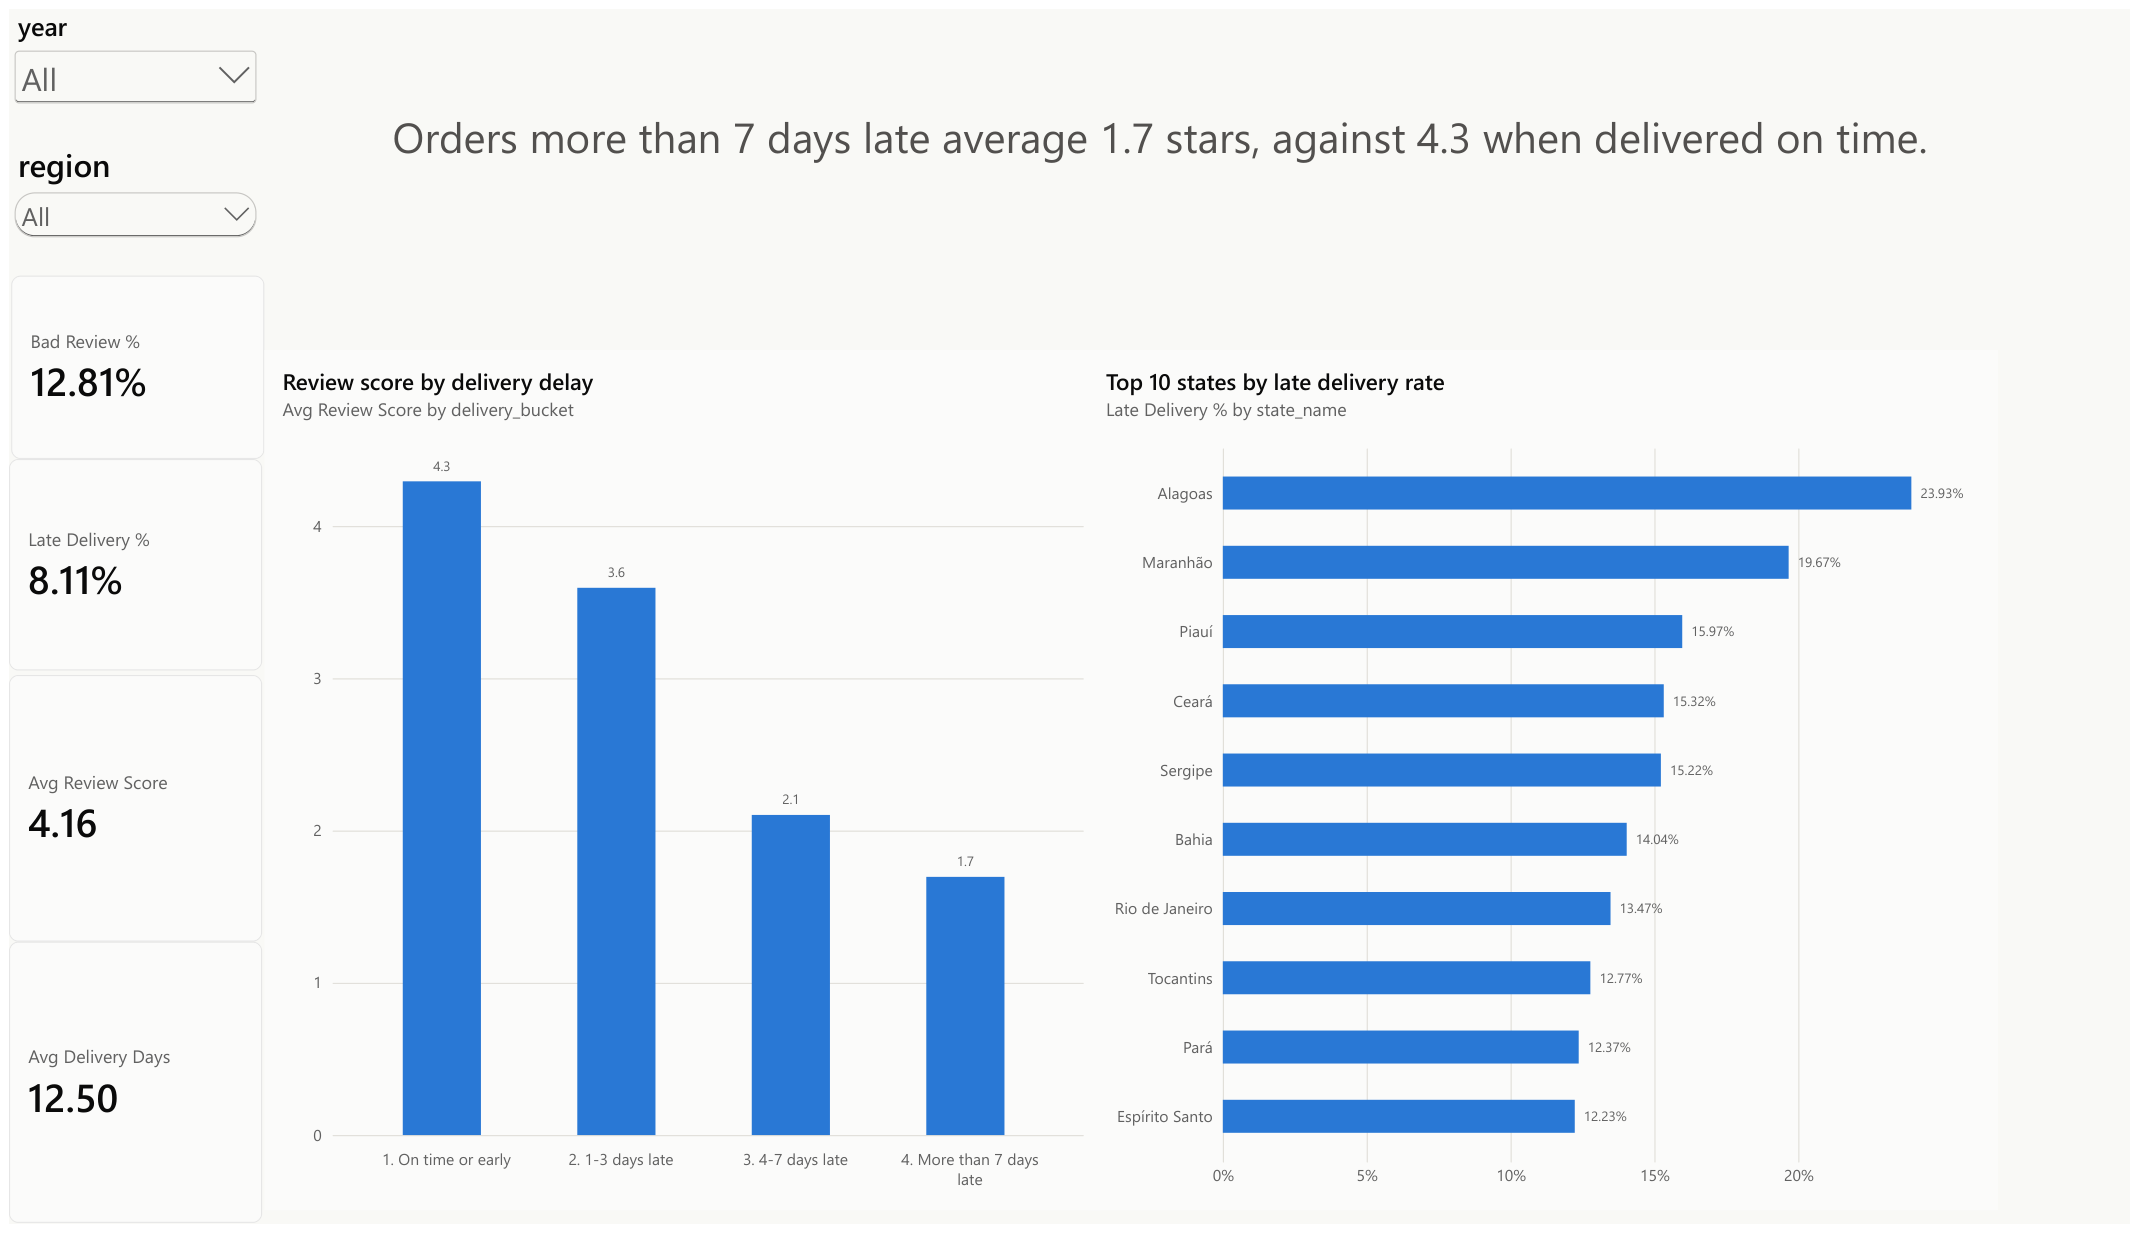

This screenshot's page, from the dashboard's own definition file:
{"tool":"powerbi","page":{"name":"Delivery & Satisfaction.","canvas":[1920,1080],"ordinal":2},"visuals":[{"type":"slicer","fields":{"Values":["dim_date.year"]},"box":[0,0,225.4,118.6],"z":0},{"type":"slicer","fields":{"Values":["dim_state.region"]},"box":[0,118.6,225.4,118.6],"z":1},{"type":"clusteredBarChart","title":"Top 10 states by late delivery rate","fields":{"Category":["dim_state.state_name"],"Y":["fact_orders.Late Delivery %"]},"box":[959.3,303.4,808.5,764.4],"z":4},{"type":"cardVisual","fields":{"Data":["fact_orders.Bad Review %"]},"box":[1.7,237.3,225,163],"z":5},{"type":"cardVisual","fields":{"Data":["fact_orders.Late Delivery %"]},"box":[0,400,225.4,188.1],"z":6},{"type":"cardVisual","fields":{"Data":["fact_orders.Avg Review Score"]},"box":[0,591.5,225.4,237.3],"z":7},{"type":"cardVisual","fields":{"Data":["fact_orders.Avg Delivery Days"]},"box":[0,828.8,225.4,250.8],"z":8},{"type":"clusteredColumnChart","title":"Review score by delivery delay","fields":{"Category":["fact_orders.delivery_bucket"],"Y":["fact_orders.Avg Review Score"]},"box":[227.1,303.4,744.1,764.4],"z":9},{"type":"textbox","box":[340.7,88.1,1405.1,149.2],"z":10}]}

Visuals, with their boxes in screenshot pixels (x1, y1, x2, y2), scaled from the page's 1920x1080 canvas onto the 2130x1233 screenshot:
slicer - dim_date.year: left=0, top=0, right=250, bottom=135
slicer - dim_state.region: left=0, top=135, right=250, bottom=271
"Top 10 states by late delivery rate" clusteredBarChart: left=1064, top=346, right=1961, bottom=1219
cardVisual - fact_orders.Bad Review %: left=2, top=271, right=251, bottom=457
cardVisual - fact_orders.Late Delivery %: left=0, top=457, right=250, bottom=671
cardVisual - fact_orders.Avg Review Score: left=0, top=675, right=250, bottom=946
cardVisual - fact_orders.Avg Delivery Days: left=0, top=946, right=250, bottom=1232
"Review score by delivery delay" clusteredColumnChart: left=252, top=346, right=1077, bottom=1219
textbox: left=378, top=101, right=1937, bottom=271
